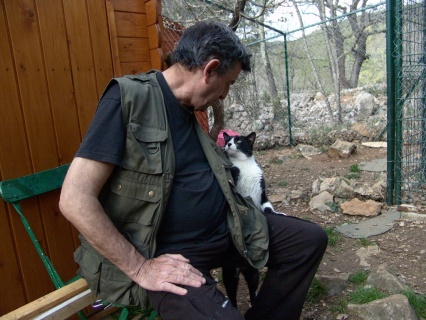Cat: (222, 130, 277, 311)
